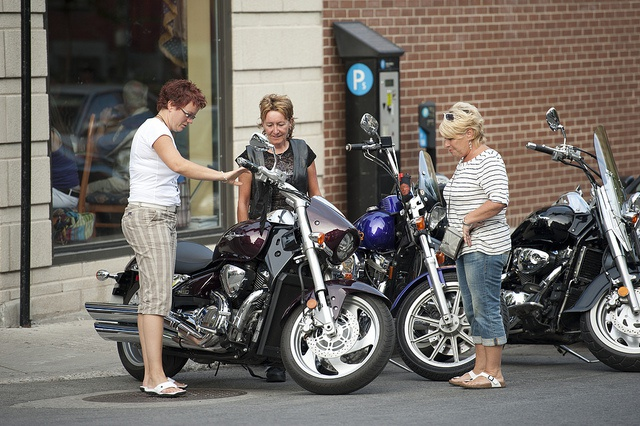non-vehicle: (83, 131, 396, 395), (414, 107, 640, 371), (326, 112, 510, 382)
